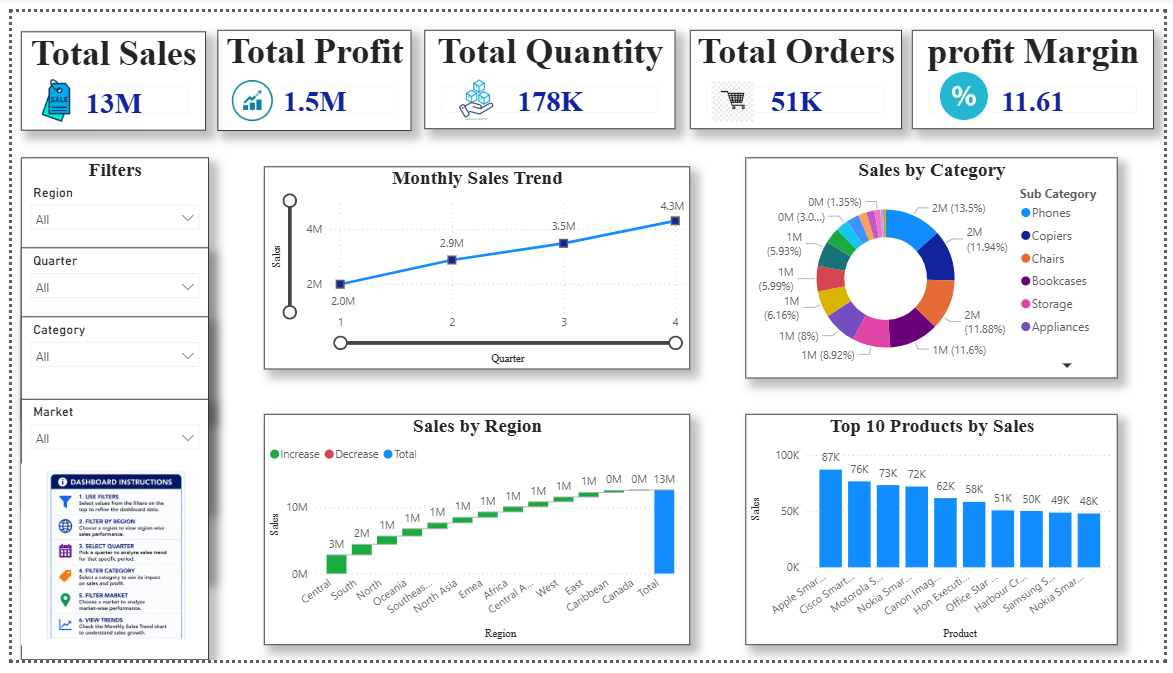

Layout of this report page (visuals, bound fields, positions):
{"tool":"powerbi","page":{"name":"Page 1","canvas":[1280,720],"ordinal":0},"visuals":[{"type":"cardVisual","title":"Total  Profit","fields":{"Data":["superstore.Total Profit"]},"box":[228.3,20,215,111.7],"z":0},{"type":"cardVisual","title":"Total  Orders","fields":{"Data":["superstore.Total Orders"]},"box":[753.3,20,235,110],"z":1000},{"type":"cardVisual","title":"Total  Sales","fields":{"Data":["superstore.Total Sales"]},"box":[10,21.2,205,110],"z":2000},{"type":"cardVisual","title":"Total  Quantity","fields":{"Data":["superstore.Total Quantity"]},"box":[458.3,20,278.3,110],"z":3000},{"type":"lineChart","title":"Monthly Sales Trend","fields":{"Category":["superstore.Quarter"],"Y":["Sum(superstore.Sales)"]},"box":[280,171.7,473.3,225],"z":4000},{"type":"donutChart","title":"Sales by Category","fields":{"Category":["superstore.Sub Category"],"Y":["superstore.Total Sales"]},"box":[815,161.7,413.3,245],"z":5000},{"type":"waterfallChart","title":"Sales by Region","fields":{"Category":["superstore.Region"],"Y":["superstore.Total Sale"]},"box":[280,446.7,473.3,256.7],"z":6000},{"type":"clusteredColumnChart","title":"Top 10 Products by Sales","fields":{"Category":["superstore.Product Name"],"Y":["Sum(superstore.Sales)"]},"box":[815,446.7,413.3,256.7],"z":7000},{"type":"cardVisual","title":"profit Margin","fields":{"Data":["superstore.Profit Margin %"]},"box":[1000,20,268.3,110],"z":8000},{"type":"slicer","title":"Filters","fields":{"Values":["superstore.Region"]},"box":[10,161.7,208.3,290],"z":9000},{"type":"slicer","fields":{"Values":["superstore.Quarter"]},"box":[10,261.7,208.3,290],"z":10000},{"type":"slicer","fields":{"Values":["superstore.Category"]},"box":[10,338.3,208.3,290],"z":11000},{"type":"slicer","fields":{"Values":["superstore.Market"]},"box":[10,430,208.3,290],"z":12000},{"type":"image","box":[25,66.2,47.5,63.8],"z":13000},{"type":"image","box":[243.8,66.2,47.5,63.8],"z":14000},{"type":"image","box":[490,75,51.2,45],"z":15000},{"type":"image","box":[1021.7,66.7,71.7,53.3],"z":16000},{"type":"image","box":[775,76.7,51.7,45],"z":16001},{"type":"textbox","box":[10,501.7,205,201.7],"z":16002},{"type":"image","box":[0,510,243.3,186.7],"z":16003}]}

Visuals, with their boxes in screenshot pixels (x1, y1, x2, y2), scaled from the page's 1280x720 canvas onto the 1173x673 screenshot:
"Total  Profit" cardVisual: crop(209, 19, 406, 123)
"Total  Orders" cardVisual: crop(690, 19, 906, 122)
"Total  Sales" cardVisual: crop(9, 20, 197, 123)
"Total  Quantity" cardVisual: crop(420, 19, 675, 122)
"Monthly Sales Trend" lineChart: crop(257, 160, 690, 371)
"Sales by Category" donutChart: crop(747, 151, 1126, 380)
"Sales by Region" waterfallChart: crop(257, 418, 690, 657)
"Top 10 Products by Sales" clusteredColumnChart: crop(747, 418, 1126, 657)
"profit Margin" cardVisual: crop(916, 19, 1162, 122)
"Filters" slicer: crop(9, 151, 200, 422)
slicer - superstore.Quarter: crop(9, 245, 200, 516)
slicer - superstore.Category: crop(9, 316, 200, 587)
slicer - superstore.Market: crop(9, 402, 200, 672)
image: crop(23, 62, 66, 122)
image: crop(223, 62, 267, 122)
image: crop(449, 70, 496, 112)
image: crop(936, 62, 1002, 112)
image: crop(710, 72, 758, 114)
textbox: crop(9, 469, 197, 657)
image: crop(0, 477, 223, 651)
